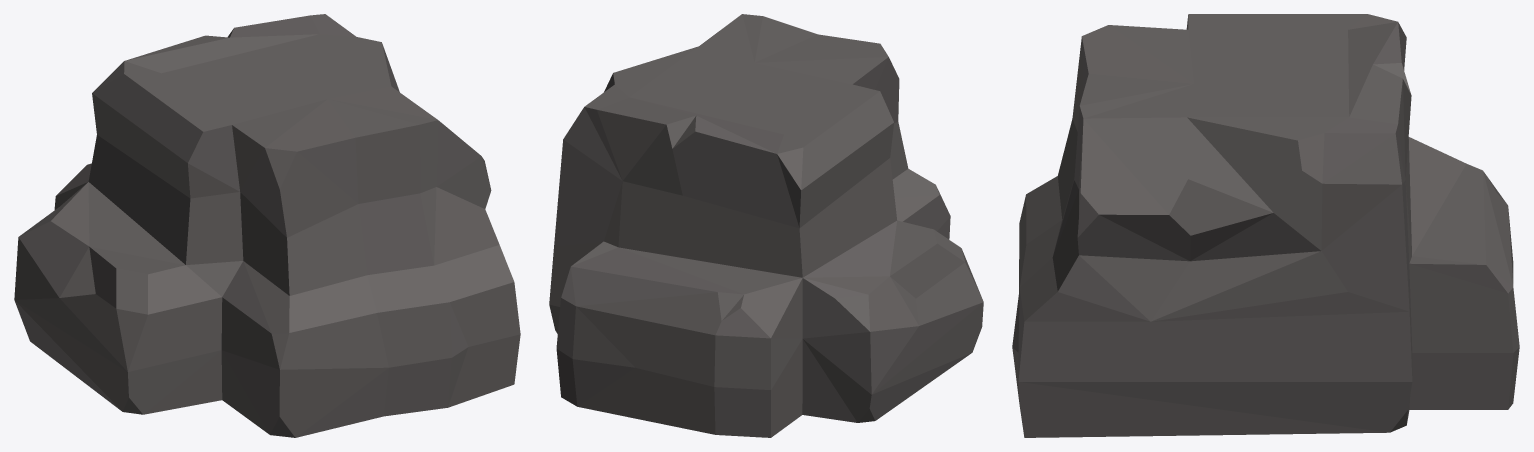
File: Rock_01.fbx
3 renders of one model, left to right at view 1: azimuth 30°, elevation 25°; view 2: azimuth 150°, elevation 25°; view 3: azimuth 270°, elevation 25°, orthographic. The views are drawn at different scales.
Parts seen in each view (by area): view 1: Cube.050; view 2: Cube.050; view 3: Cube.050.
Part boxes in pixels (box(x1,y1,x2,y2)): Cube.050: box(14, 14, 520, 437); Cube.050: box(549, 14, 983, 437); Cube.050: box(1012, 14, 1519, 437).
Size of the model in its own units: 3.22 by 3.73 by 2.49.
1 material, 1 textured.
